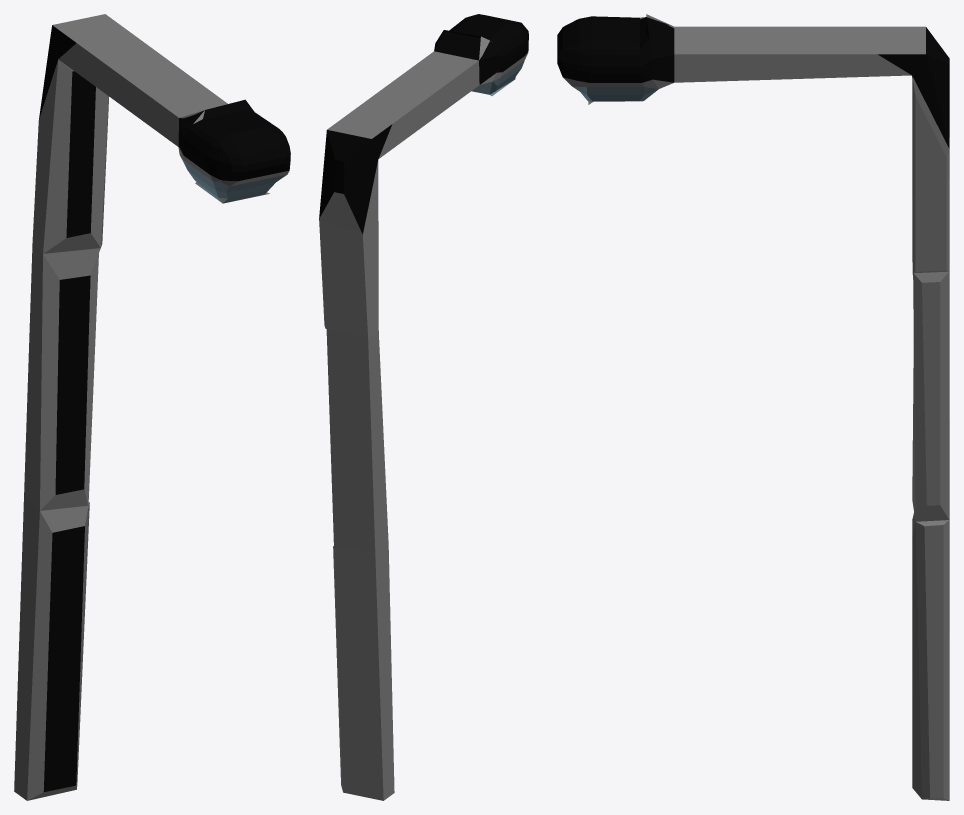
Rendered from Lampa uliczna.fbx.
The picture shows the model from 3 angles, left to right: view 1: azimuth 30°, elevation 25°; view 2: azimuth 150°, elevation 25°; view 3: azimuth 270°, elevation 25°; orthographic projection. The views are drawn at different scales.
Visible parts, largest first — view 1: Cube; view 2: Cube; view 3: Cube.
Part boxes in pixels (left/top/right/bottom): Cube: left=14, top=14, right=290, bottom=800; Cube: left=319, top=14, right=528, bottom=800; Cube: left=557, top=14, right=949, bottom=800.
Size of the model in its own units: 382 by 3144 by 1436.
